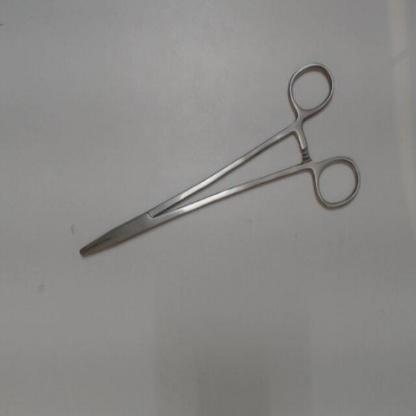8 Mayo Needle Holder: (68, 50, 370, 269)
